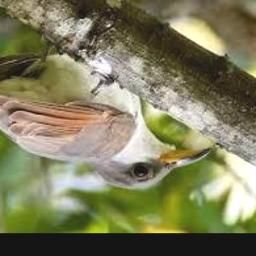Cuckoo: (0, 43, 213, 190)
